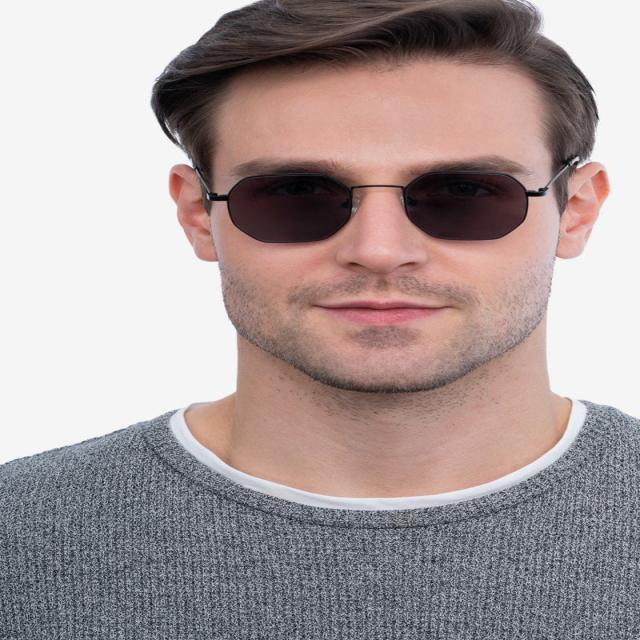2_gafas: (190, 154, 580, 244)
